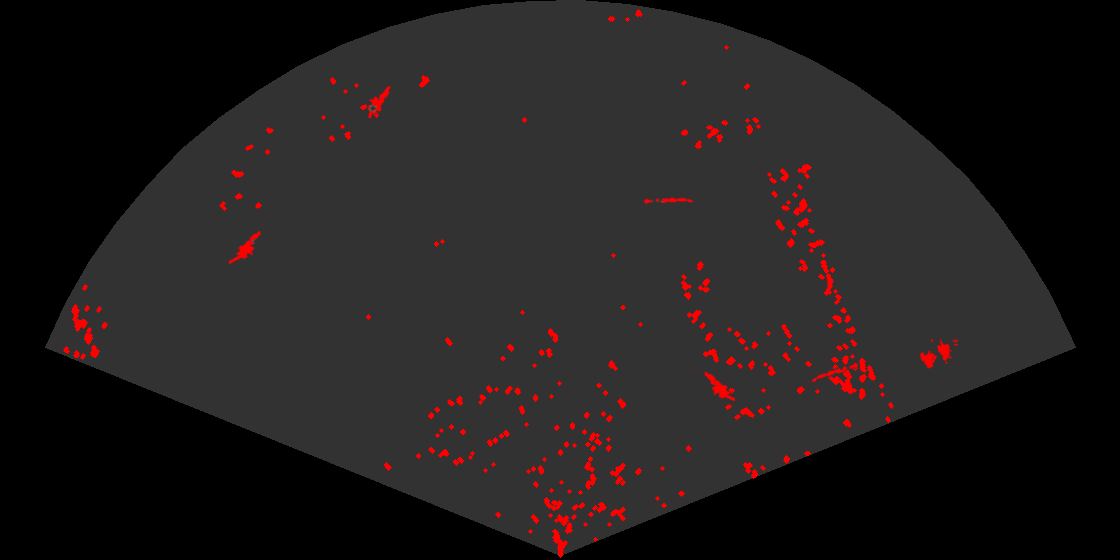cage: (918, 339, 958, 370)
chain: (806, 361, 859, 384), (643, 196, 694, 205)
frogman: (229, 228, 269, 264), (695, 368, 735, 403), (366, 84, 392, 118)
